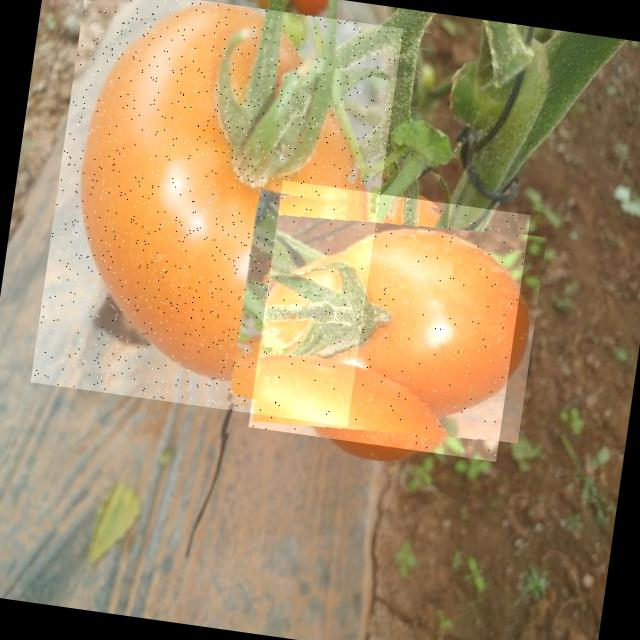Ripe Tomato: (30, 0, 403, 427), (248, 180, 530, 462)
